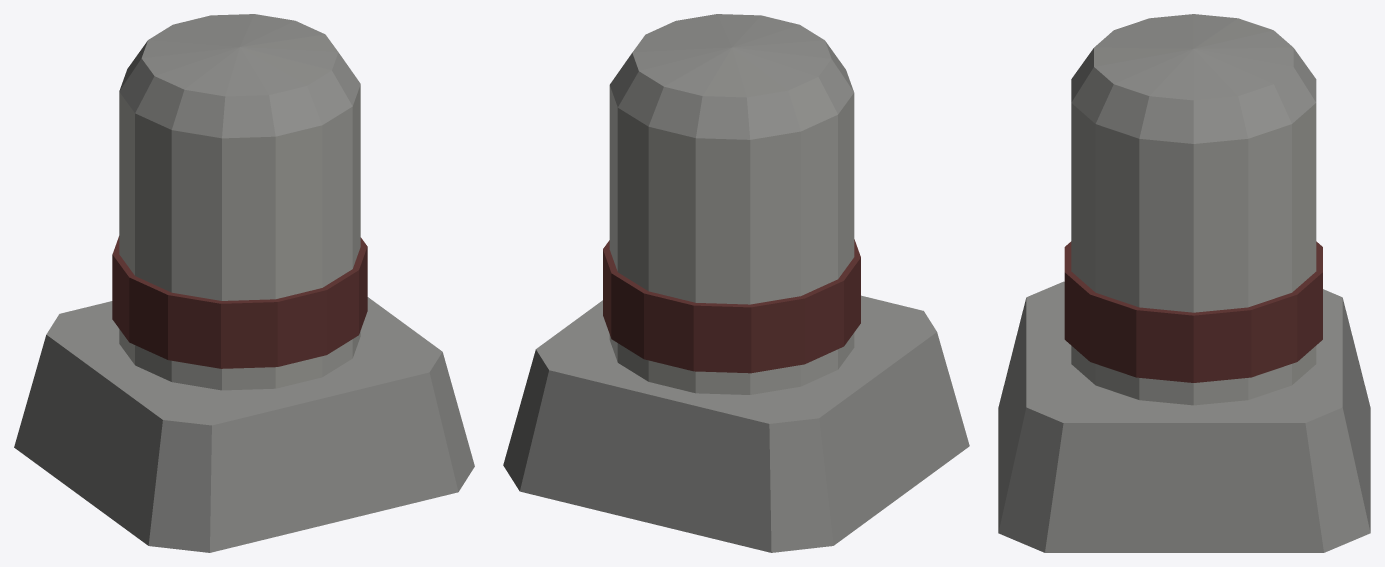
The model's file is oc_fuel_node.obj.
The picture shows the model from 3 angles, left to right: view 1: azimuth 30°, elevation 25°; view 2: azimuth 150°, elevation 25°; view 3: azimuth 270°, elevation 25°; orthographic projection. The views are drawn at different scales.
Parts seen in each view (by area): view 1: oc_fuel_node_0, oc_fuel_node_1, oc_fuel_node_3, oc_fuel_node_2; view 2: oc_fuel_node_0, oc_fuel_node_1, oc_fuel_node_3, oc_fuel_node_2; view 3: oc_fuel_node_0, oc_fuel_node_1, oc_fuel_node_3, oc_fuel_node_2.
Boxes of the visible parts, x1,y1,x2,y2 form: oc_fuel_node_0: [14, 297, 474, 552]; oc_fuel_node_1: [119, 85, 360, 390]; oc_fuel_node_3: [119, 14, 360, 138]; oc_fuel_node_2: [112, 236, 367, 368]; oc_fuel_node_0: [503, 295, 969, 552]; oc_fuel_node_1: [609, 85, 854, 394]; oc_fuel_node_3: [610, 14, 853, 139]; oc_fuel_node_2: [603, 239, 860, 373]; oc_fuel_node_0: [998, 281, 1370, 552]; oc_fuel_node_1: [1071, 103, 1316, 405]; oc_fuel_node_3: [1071, 14, 1316, 143]; oc_fuel_node_2: [1064, 241, 1322, 382].
Bounding box in the file's own units: 0.84 × 1 × 0.8.
